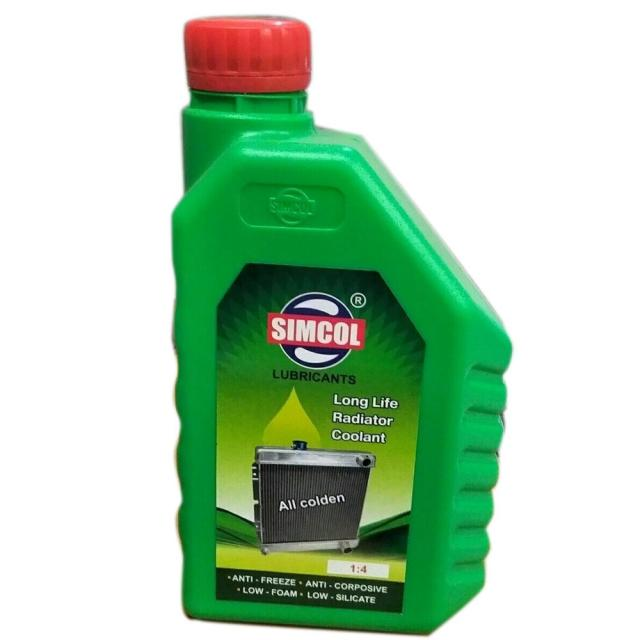coolant: (158, 4, 519, 636)
